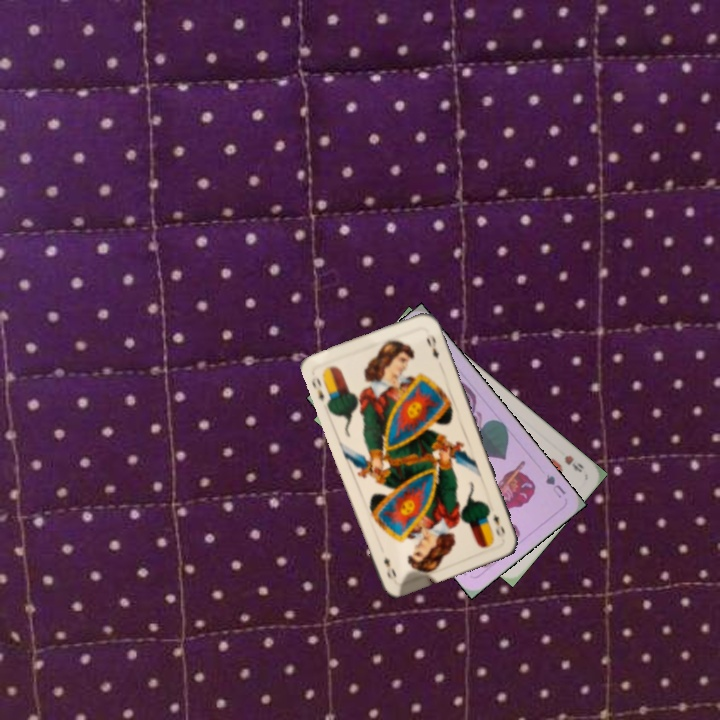EO: (307, 373, 327, 404), (489, 510, 508, 540)
GU: (541, 470, 569, 501)
H9: (560, 451, 586, 475)
